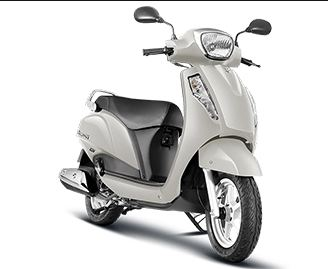bike: (57, 6, 271, 263)
